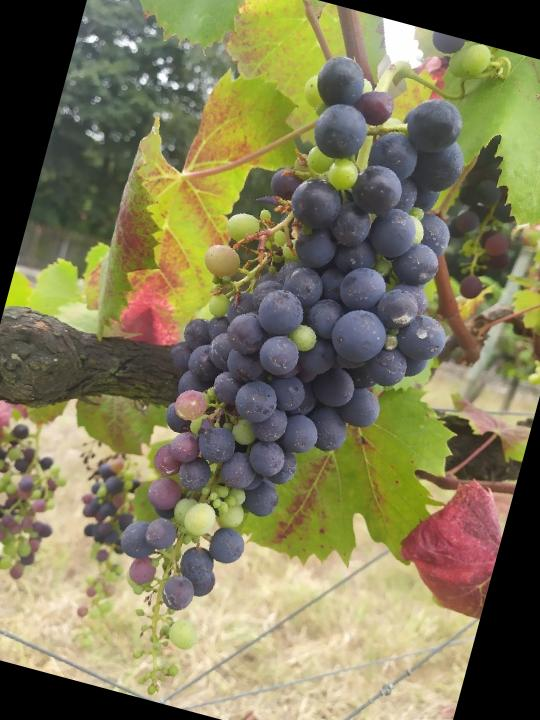grape: (91, 33, 512, 720), (28, 435, 163, 666), (0, 416, 79, 589)
